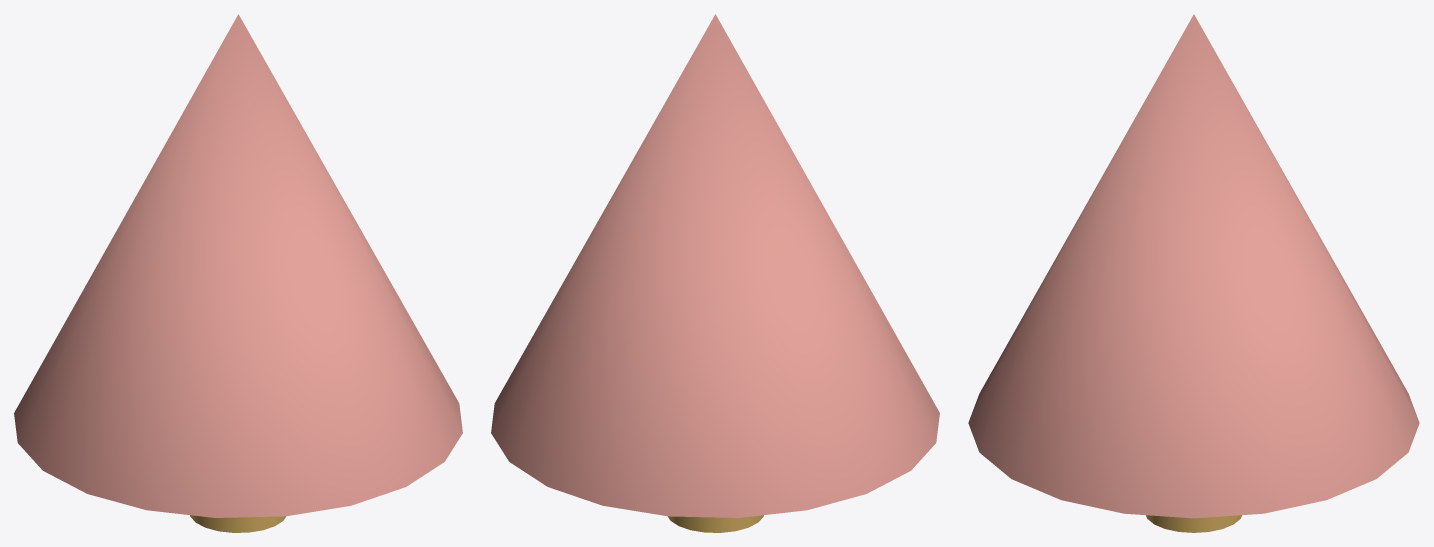
Rendered from cone_rosa.fbx.
3 views of the same model, side by side, from view 1: azimuth 30°, elevation 25°; view 2: azimuth 150°, elevation 25°; view 3: azimuth 270°, elevation 25° (orthographic).
Parts seen in each view (by area): view 1: pCone1, arvore4; view 2: pCone1, arvore4; view 3: pCone1, arvore4.
Part boxes in pixels (x1,y1,x2,y2): pCone1: (14, 14, 462, 517); arvore4: (190, 515, 285, 532); pCone1: (491, 14, 939, 517); arvore4: (668, 515, 763, 532); pCone1: (968, 14, 1419, 518); arvore4: (1146, 515, 1241, 532).
Size of the model in its own units: 2.39 by 2.91 by 2.39.
